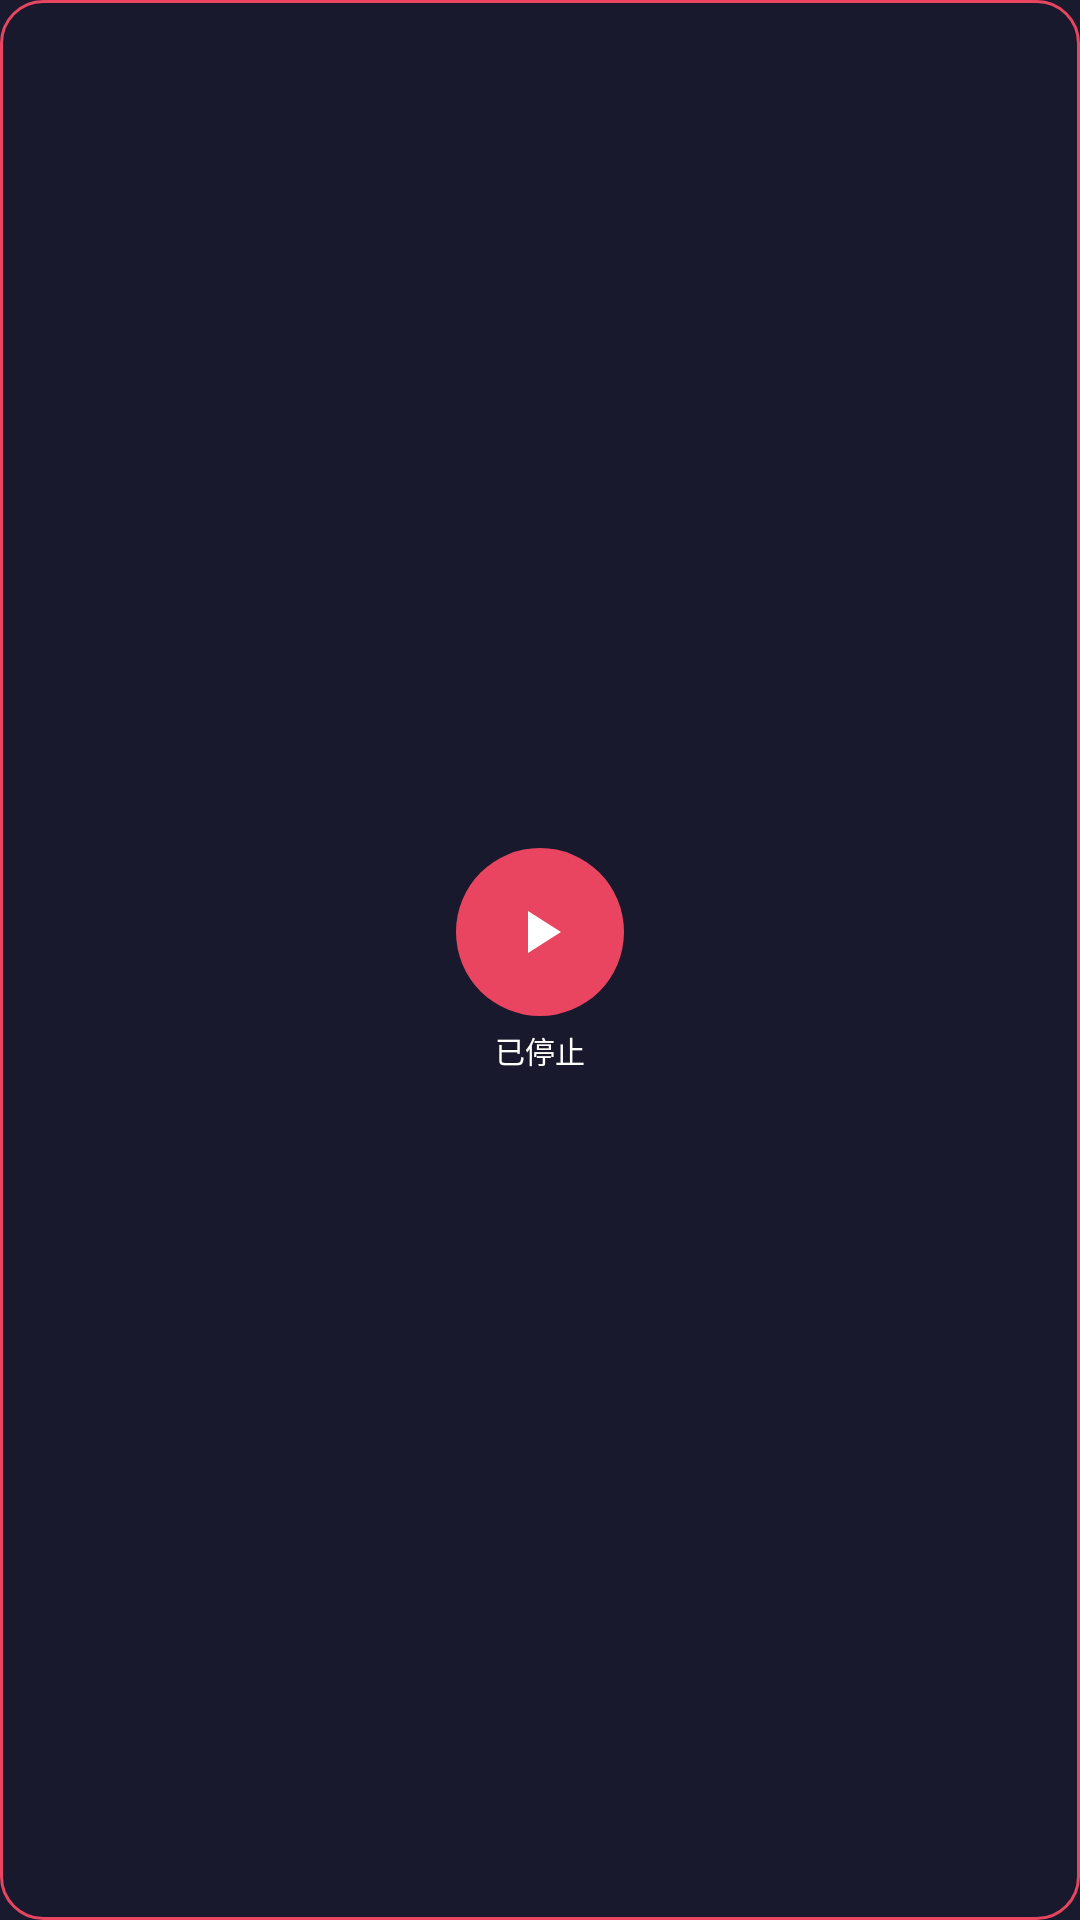

Point at icon controls on the screen. Image size 1080w x 1920h, points as point (x, y).
开始/停止: point (540, 932)
